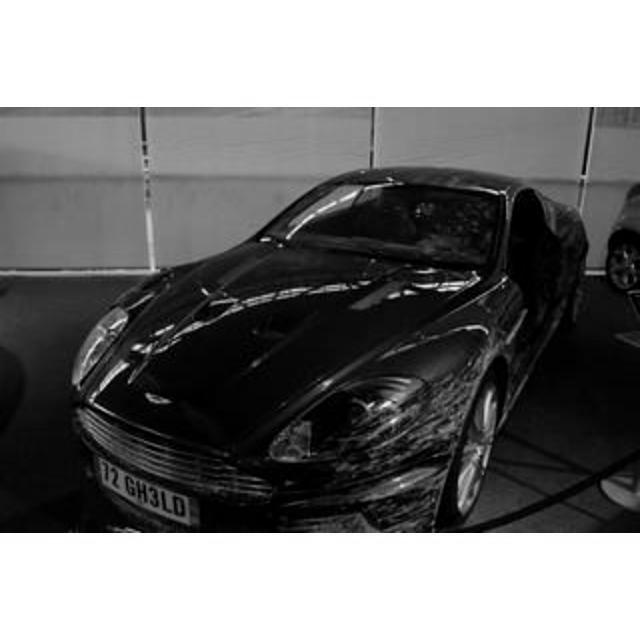front-bumper-dent: (164, 443, 454, 531)
